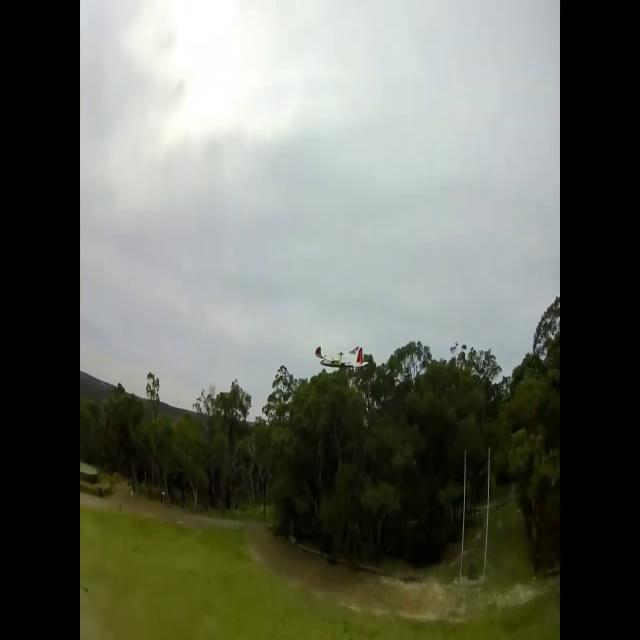iha: (315, 347, 369, 373)
